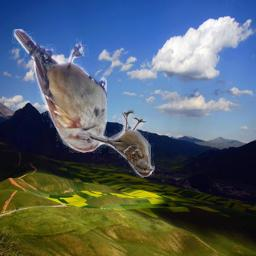Sparrow: (12, 29, 107, 153), (89, 109, 155, 179)
